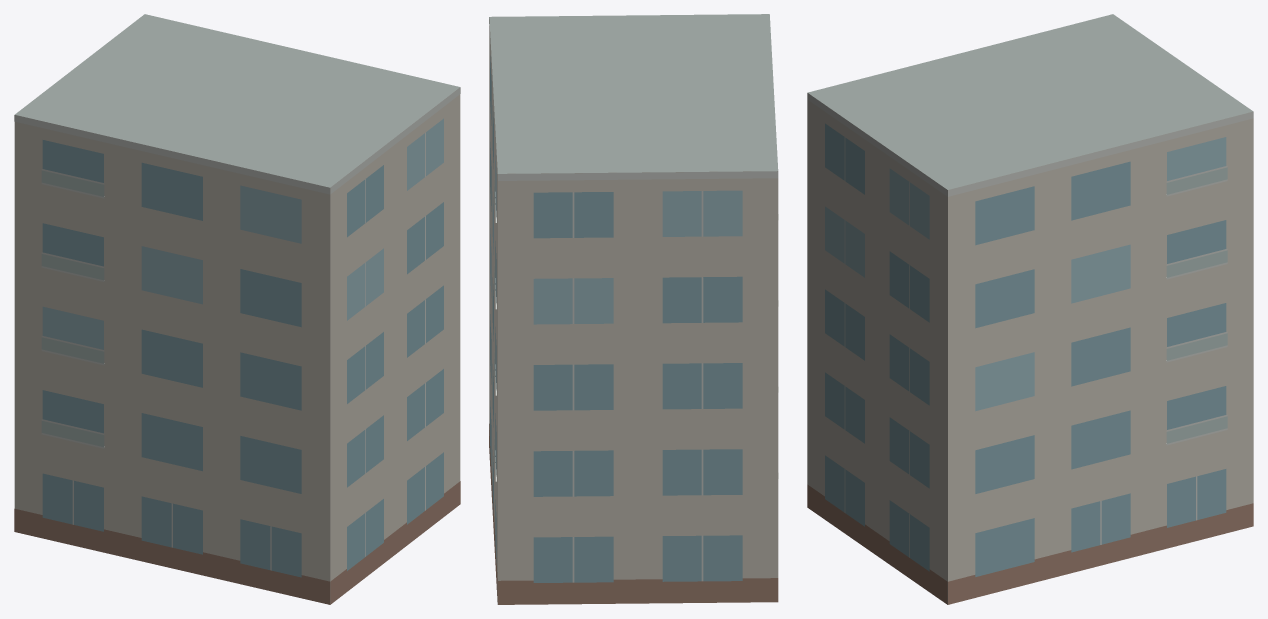
Rendered from survey-upis-33023673.glb.
3 views of the same model, side by side, from view 1: azimuth 30°, elevation 25°; view 2: azimuth 150°, elevation 25°; view 3: azimuth 270°, elevation 25° (orthographic). The views are drawn at different scales.
Parts seen in each view (by area): view 1: survey-upis-33023673.tmp; view 2: survey-upis-33023673.tmp; view 3: survey-upis-33023673.tmp.
Boxes of the visible parts, x1,y1,x2,y2 form: survey-upis-33023673.tmp: [14, 14, 460, 604]; survey-upis-33023673.tmp: [489, 14, 778, 604]; survey-upis-33023673.tmp: [807, 14, 1253, 604].
Size of the model in its own units: 13.43 by 14.75 by 14.39.
